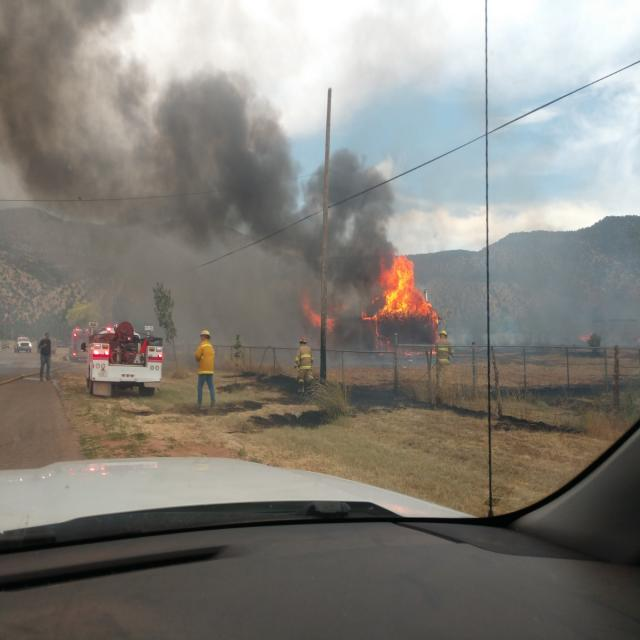smoke: (11, 7, 299, 206)
